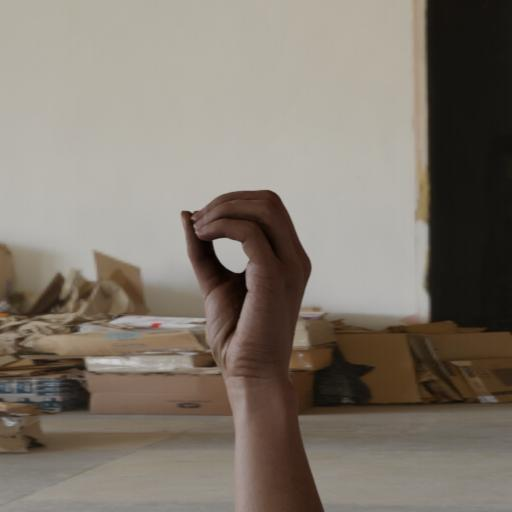O: (176, 182, 330, 508)
